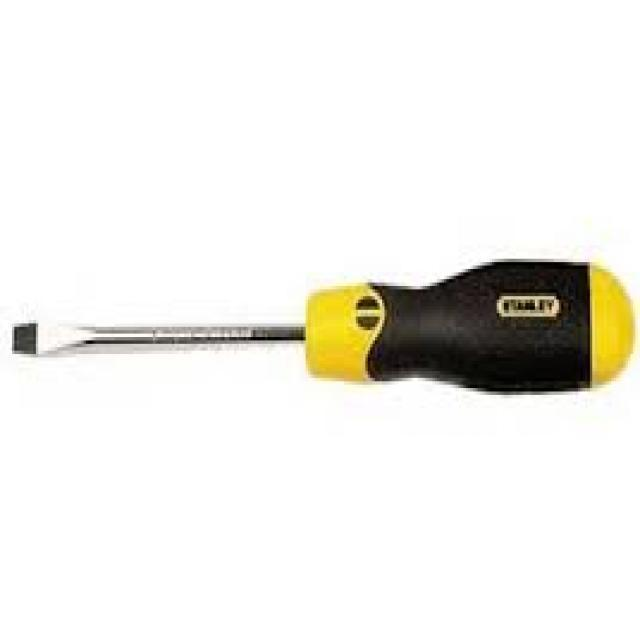screwdriver: (11, 260, 634, 396)
